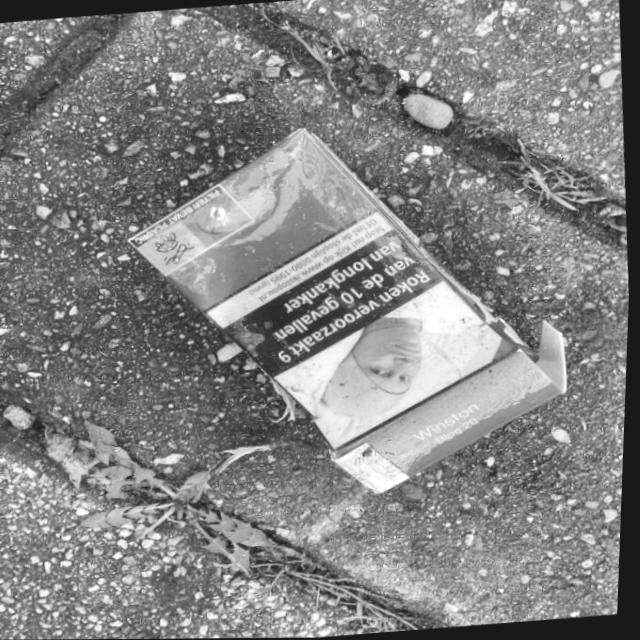Paper: (104, 102, 588, 517)
